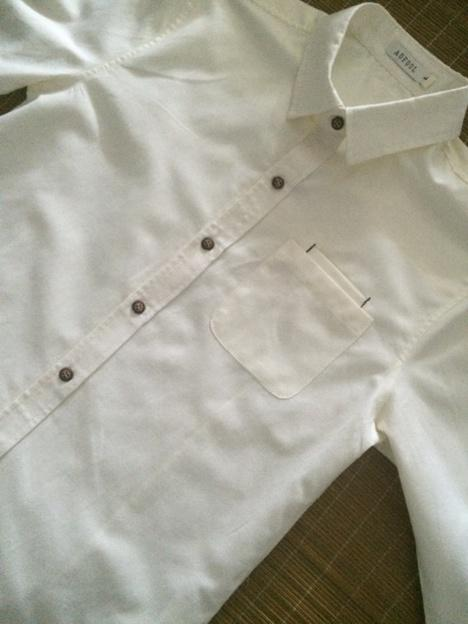S_shirt: (1, 1, 465, 624)
